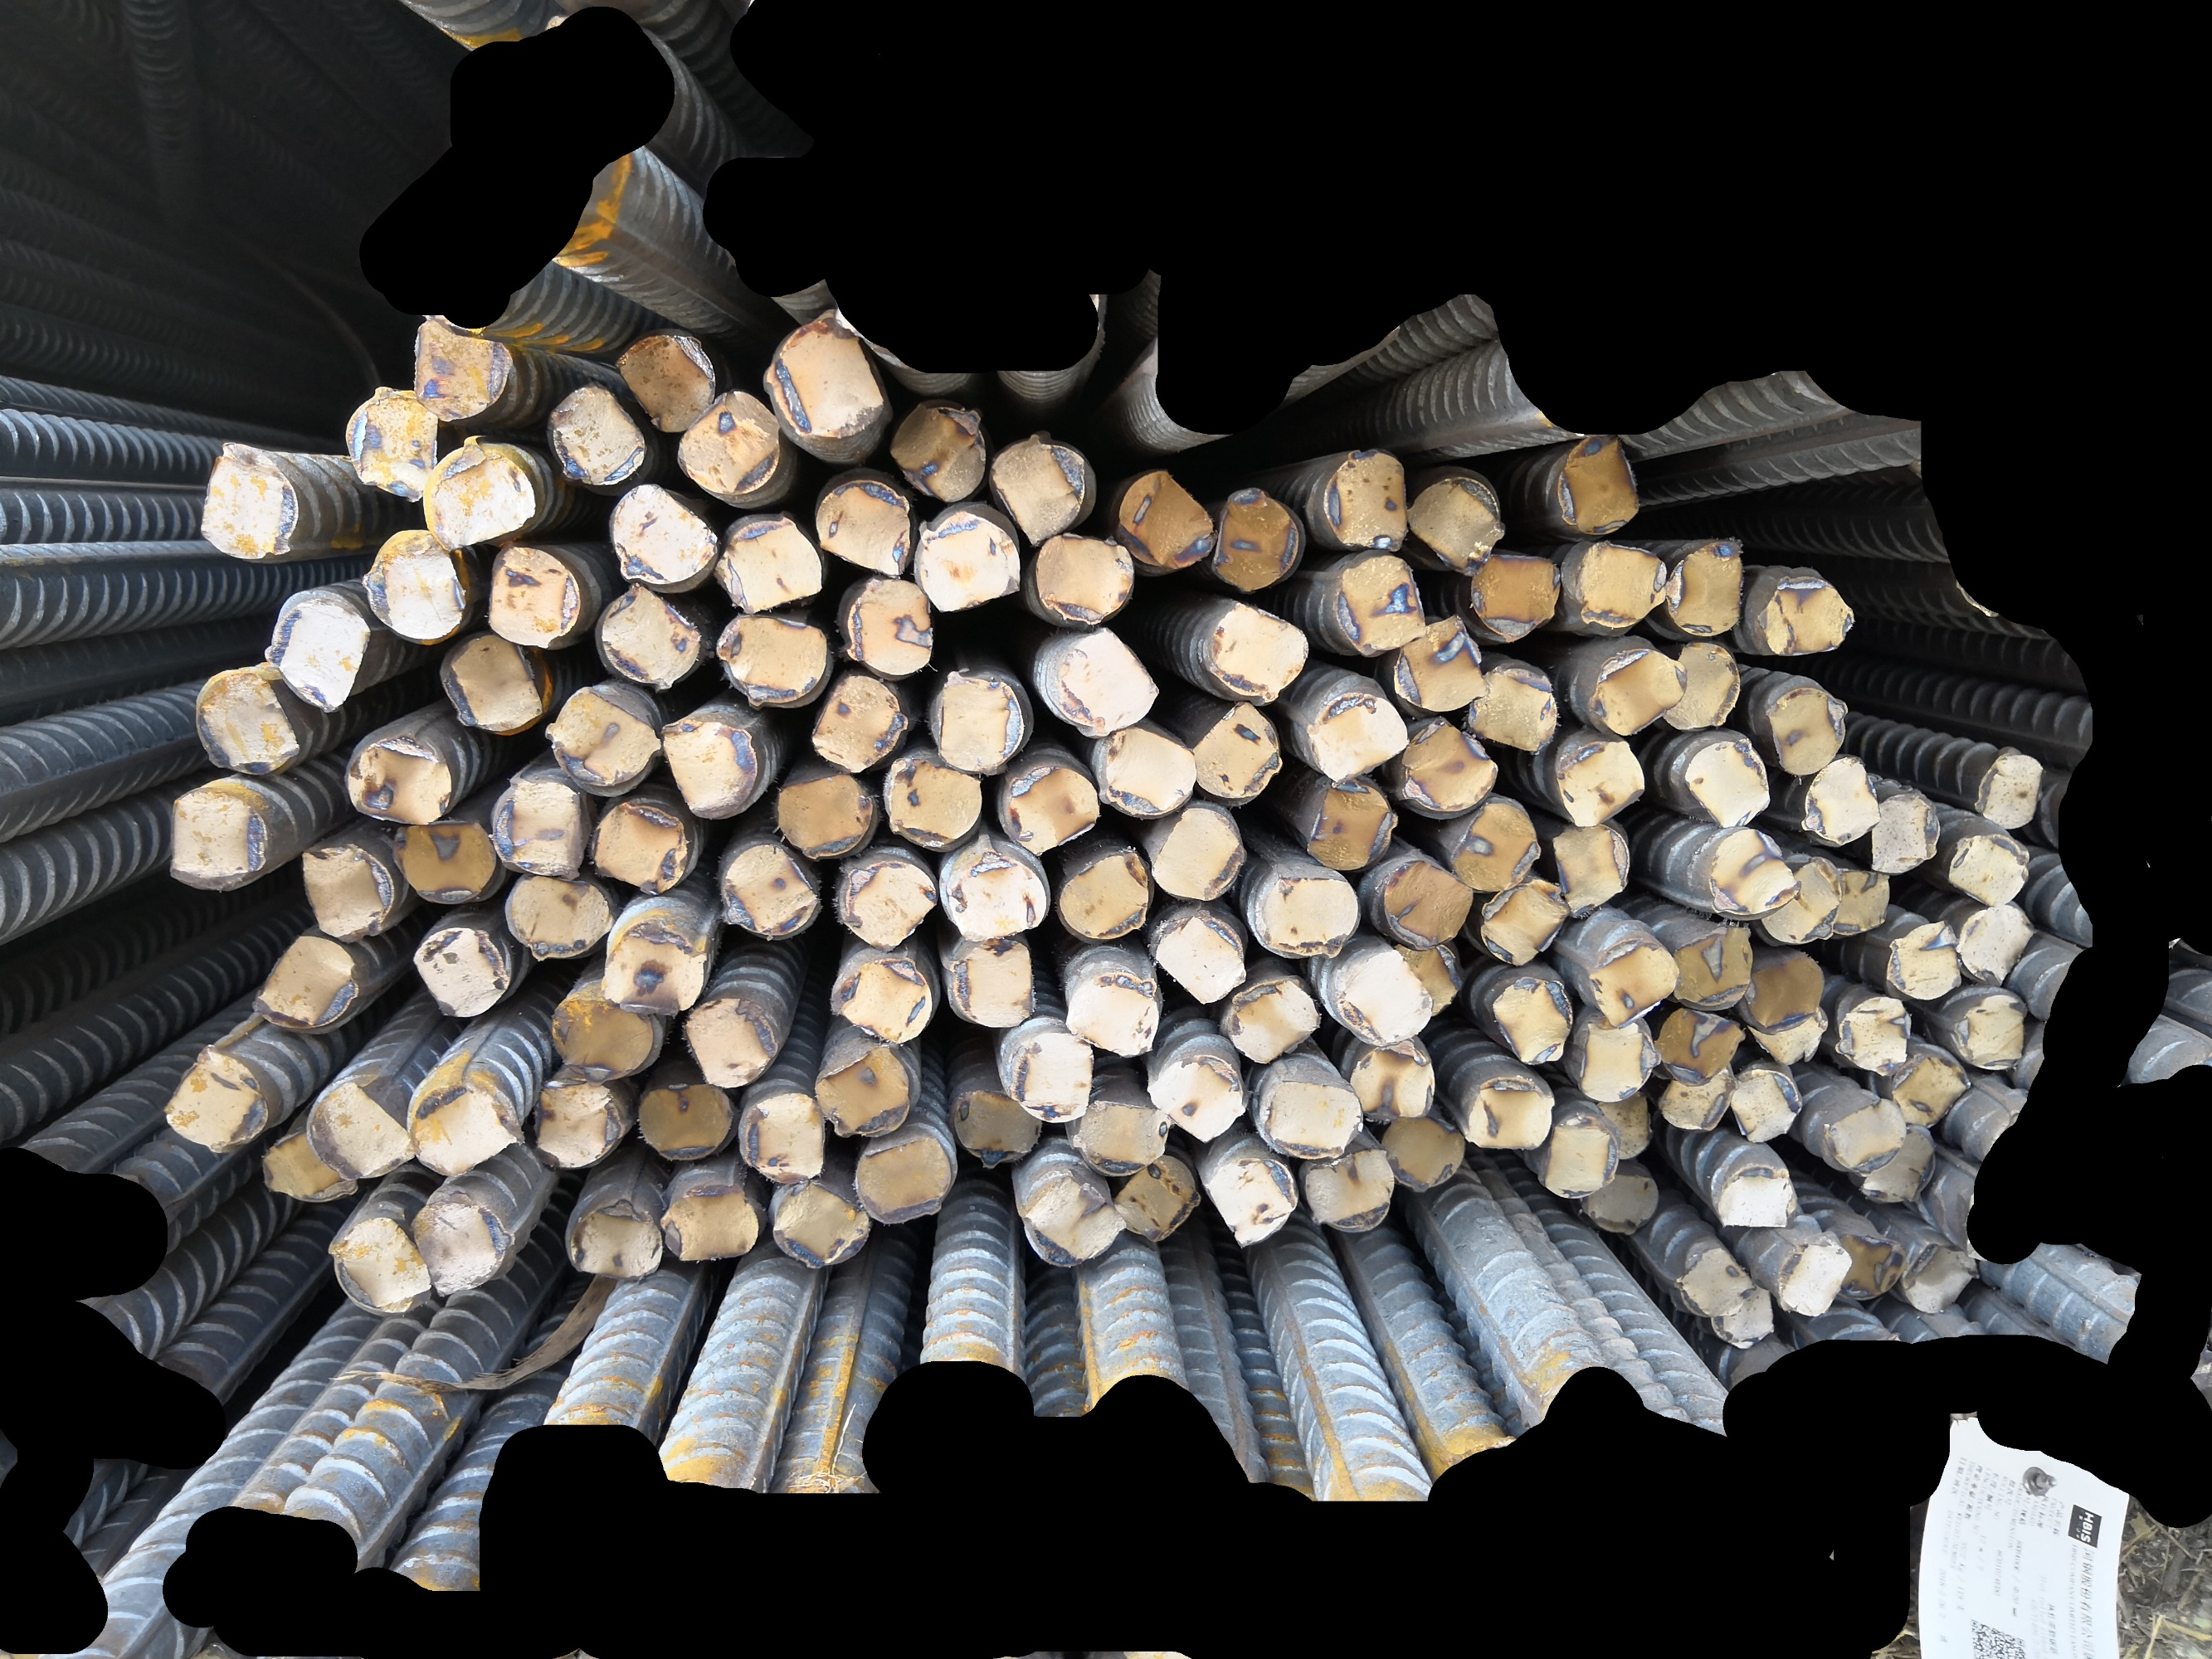rebar: (758, 308, 889, 443), (260, 587, 377, 721), (544, 678, 664, 800), (413, 441, 539, 556), (589, 577, 706, 699), (600, 477, 722, 591), (1196, 592, 1318, 706), (354, 528, 471, 645), (669, 385, 786, 502), (1041, 622, 1163, 734), (162, 1046, 281, 1159), (331, 382, 443, 502), (983, 429, 1093, 551), (199, 443, 303, 568), (713, 605, 831, 714), (906, 505, 1025, 615), (399, 1077, 525, 1180), (924, 664, 1032, 779), (298, 1075, 415, 1182), (317, 1216, 438, 1319), (406, 314, 516, 425), (190, 669, 303, 777), (499, 864, 619, 965), (164, 784, 275, 892), (715, 836, 828, 943), (608, 324, 716, 434), (479, 775, 591, 882), (713, 512, 826, 617), (248, 934, 364, 1035), (1182, 694, 1288, 803), (1400, 711, 1506, 821), (804, 671, 915, 775), (338, 732, 458, 828), (593, 920, 708, 1019), (586, 793, 694, 897), (1018, 1164, 1126, 1269), (831, 852, 941, 955), (483, 540, 584, 652), (812, 469, 913, 580), (547, 376, 647, 490), (542, 985, 659, 1080), (889, 394, 987, 507), (1147, 800, 1252, 904), (657, 716, 760, 823), (404, 1195, 512, 1297), (1142, 908, 1250, 1009), (1140, 1047, 1250, 1147), (383, 816, 499, 910), (439, 629, 544, 732), (1403, 471, 1506, 575), (406, 922, 512, 1023), (1119, 464, 1218, 572), (1299, 688, 1412, 782), (1096, 721, 1203, 821), (1194, 1150, 1300, 1249), (521, 1075, 629, 1173), (840, 572, 938, 680), (1210, 483, 1304, 594), (298, 836, 399, 939), (1030, 528, 1133, 629), (1259, 864, 1361, 965), (1583, 931, 1686, 1032), (1330, 552, 1429, 657), (880, 755, 987, 852), (767, 770, 877, 864), (1253, 1075, 1368, 1164), (1569, 535, 1672, 634), (830, 950, 934, 1047), (1323, 444, 1415, 554), (1553, 430, 1644, 542), (812, 1040, 913, 1140), (1051, 845, 1152, 945), (1332, 950, 1436, 1046), (845, 1133, 952, 1227), (1584, 643, 1691, 737), (1065, 960, 1164, 1060), (1755, 568, 1862, 660), (1543, 814, 1633, 922), (1300, 775, 1398, 875), (676, 997, 777, 1093), (1381, 849, 1476, 950), (1391, 610, 1483, 714), (1462, 547, 1560, 645), (945, 854, 1048, 946), (770, 1176, 872, 1269), (1001, 765, 1102, 857), (563, 1192, 666, 1283), (648, 1183, 762, 1265), (734, 1089, 828, 1187), (1075, 1087, 1173, 1182), (1663, 530, 1747, 640), (1677, 735, 1774, 829), (945, 932, 1037, 1032), (1222, 976, 1323, 1066), (1476, 875, 1572, 969), (1443, 802, 1543, 892), (1302, 1148, 1403, 1237), (948, 1080, 1044, 1173), (1550, 739, 1647, 829), (1703, 828, 1801, 918), (1489, 971, 1578, 1070), (636, 1075, 734, 1164), (1668, 915, 1755, 1014), (1466, 664, 1557, 758), (1762, 852, 1848, 951), (253, 1129, 363, 1206), (1661, 636, 1747, 734), (1644, 1000, 1743, 1084), (1762, 687, 1853, 777), (1571, 1009, 1659, 1101), (1944, 986, 2036, 1075), (1799, 755, 1886, 849), (1952, 896, 2039, 990), (1109, 1161, 1203, 1246), (1462, 1072, 1557, 1157), (1734, 951, 1829, 1037), (1815, 1093, 1914, 1173), (1537, 1112, 1623, 1204), (1011, 1032, 1095, 1126), (1830, 986, 1914, 1080), (1375, 1110, 1469, 1192), (1347, 1040, 1435, 1126), (1947, 824, 2036, 908), (1710, 1159, 1806, 1234), (1881, 915, 1963, 1002), (1893, 1239, 1982, 1319), (1869, 788, 1947, 878), (1670, 1243, 1755, 1324), (1888, 1049, 1971, 1131), (1858, 1127, 1944, 1208), (1389, 934, 1468, 1021), (1776, 1232, 1855, 1319), (1743, 1000, 1837, 1072), (1829, 1223, 1909, 1305), (1975, 744, 2050, 831), (1727, 1061, 1804, 1145), (1583, 1166, 1665, 1243), (1661, 1060, 1736, 1136), (1818, 861, 1893, 938), (1591, 1087, 1658, 1162), (1713, 1283, 1780, 1351)
